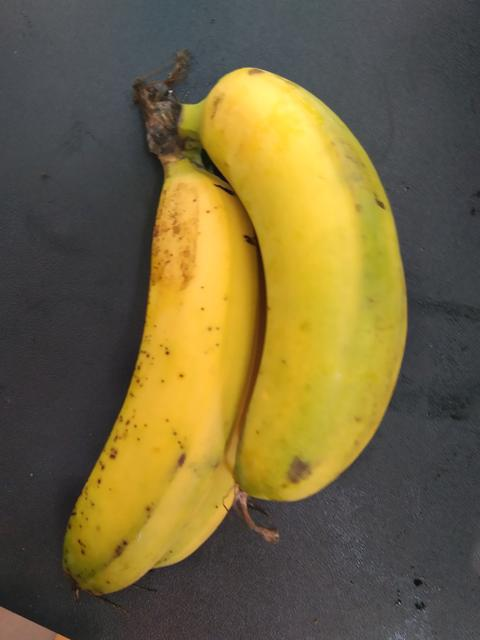freshripe: (217, 67, 431, 545)
ripe: (58, 151, 317, 608)
